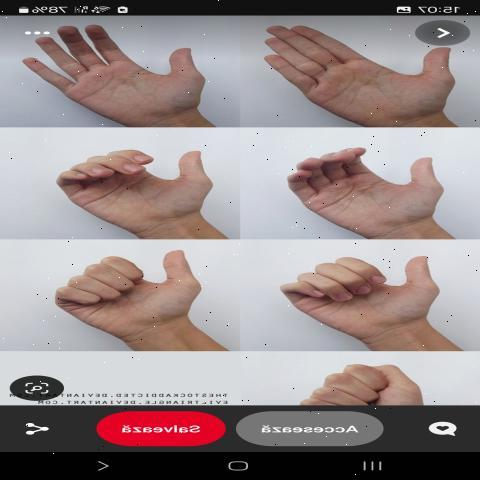Hands: (13, 9, 222, 146), (251, 21, 465, 143), (16, 242, 224, 355), (249, 231, 454, 337), (272, 134, 456, 240), (42, 133, 216, 239)
